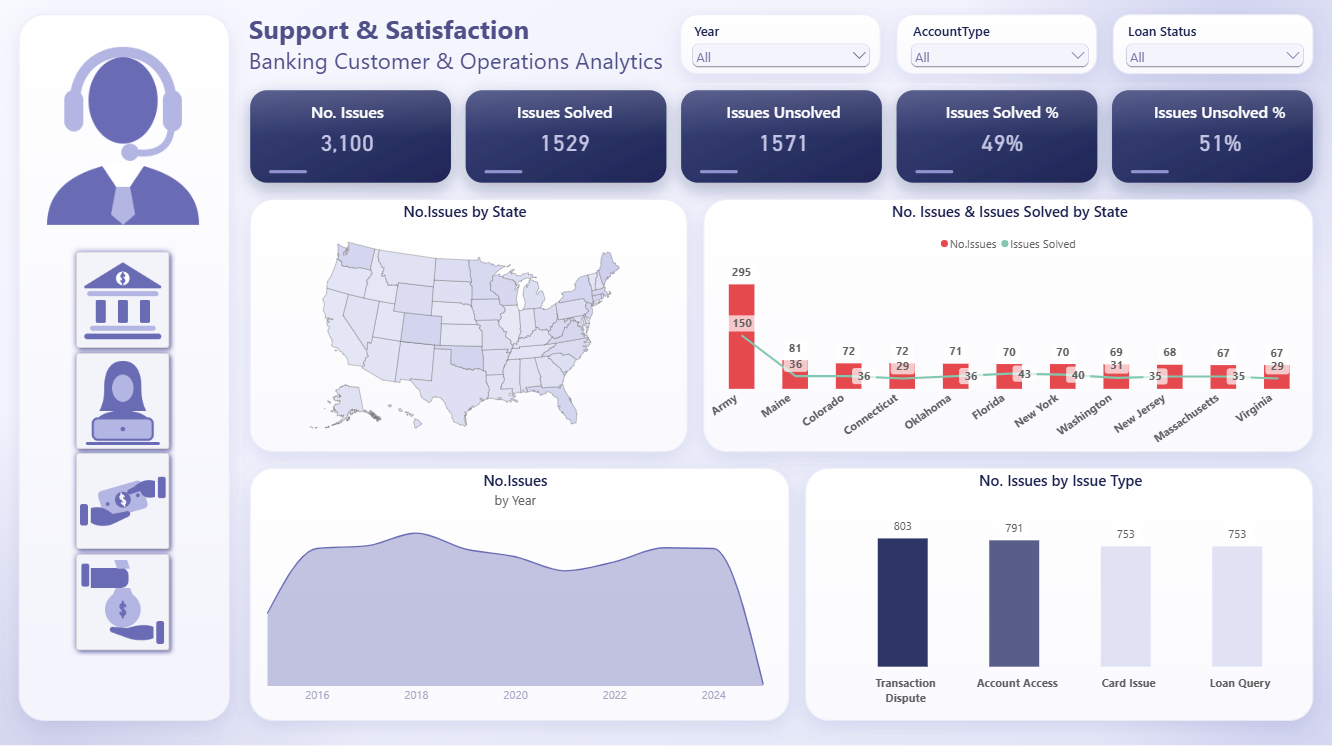

The page's visual inventory and layout, read from the dashboard file:
{"tool":"powerbi","page":{"name":"Support & Satisfaction","canvas":[1920,1080],"ordinal":4},"visuals":[{"type":"image","box":[0,16,368,336],"z":0},{"type":"actionButton","box":[96,496,175,175],"z":1000},{"type":"actionButton","box":[96,352,175,175],"z":2000},{"type":"actionButton","box":[96,640,175,175],"z":3000},{"type":"actionButton","box":[96,784,175,175],"z":4000},{"type":"textbox","box":[352,16,864,112],"z":5000},{"type":"advanceCardE03760C5AB684758B56AA29F9E6C257B","title":"No. Issues ","fields":{"mainMeasure":["Customer Survice.No.Issues"]},"box":[360,144,288,96],"z":6000},{"type":"advanceCardE03760C5AB684758B56AA29F9E6C257B","title":"Issues Solved ","fields":{"mainMeasure":["Customer Survice.Issues Solved"]},"box":[672,144,288,96],"z":7000},{"type":"advanceCardE03760C5AB684758B56AA29F9E6C257B","title":"Issues Unsolved ","fields":{"mainMeasure":["Customer Survice.Issues Unsolved"]},"box":[984,144,288,96],"z":8000},{"type":"advanceCardE03760C5AB684758B56AA29F9E6C257B","title":"Issues Solved %","fields":{"mainMeasure":["Customer Survice.Issues Solved %"]},"box":[1296,144,288,96],"z":9000},{"type":"advanceCardE03760C5AB684758B56AA29F9E6C257B","title":"Issues Unsolved %","fields":{"mainMeasure":["Customer Survice.Issues Unsolved %"]},"box":[1608,144,288,96],"z":10000},{"type":"slicer","fields":{"Values":["Accounts.AccountType"]},"box":[1292,32,288,96],"z":11000},{"type":"slicer","fields":{"Values":["Loans.Loan Status"]},"box":[1600,32,288,96],"z":12000},{"type":"slicer","fields":{"Values":["DimDate.Year"]},"box":[980,32,288,96],"z":13000},{"type":"lineClusteredColumnComboChart","title":"No. Issues by Issue Type","fields":{"Category":["SupportCalls.IssueType"],"Y":["Customer Survice.No.Issues"]},"box":[1152,672,744,360],"z":14000},{"type":"lineClusteredColumnComboChart","title":"No. Issues & Issues Solved by State ","fields":{"Category":["Customers.State"],"Y":["Customer Survice.No.Issues"],"Y2":["Customer Survice.Issues Solved"]},"box":[1008,288,888,384],"z":15000},{"type":"lineChart","fields":{"Category":["DimDate.Year","DimDate.Quarter","DimDate.MonthName","DimDate.Day"],"Y":["Customer Survice.No.Issues"]},"box":[360,672,768,360],"z":16000},{"type":"shapeMap","fields":{"Category":["Customers.State"],"Value":["Customer Survice.No.Issues"]},"box":[360,288,624,360],"z":16001}]}

Visuals, with their boxes in screenshot pixels (x1, y1, x2, y2), scaled from the page's 1920x1080 canvas onto the 1332x746 screenshot:
image: detection(0, 11, 255, 243)
actionButton: detection(67, 343, 188, 463)
actionButton: detection(67, 243, 188, 364)
actionButton: detection(67, 442, 188, 563)
actionButton: detection(67, 542, 188, 662)
textbox: detection(244, 11, 844, 88)
"No. Issues " advanceCardE03760C5AB684758B56AA29F9E6C257B: detection(250, 99, 450, 166)
"Issues Solved " advanceCardE03760C5AB684758B56AA29F9E6C257B: detection(466, 99, 666, 166)
"Issues Unsolved " advanceCardE03760C5AB684758B56AA29F9E6C257B: detection(683, 99, 882, 166)
"Issues Solved %" advanceCardE03760C5AB684758B56AA29F9E6C257B: detection(899, 99, 1099, 166)
"Issues Unsolved %" advanceCardE03760C5AB684758B56AA29F9E6C257B: detection(1116, 99, 1315, 166)
slicer - Accounts.AccountType: detection(896, 22, 1096, 88)
slicer - Loans.Loan Status: detection(1110, 22, 1310, 88)
slicer - DimDate.Year: detection(680, 22, 880, 88)
"No. Issues by Issue Type" lineClusteredColumnComboChart: detection(799, 464, 1315, 713)
"No. Issues & Issues Solved by State " lineClusteredColumnComboChart: detection(699, 199, 1315, 464)
lineChart - DimDate.Year x DimDate.Quarter: detection(250, 464, 783, 713)
shapeMap - Customers.State x Customer Survice.No.Issues: detection(250, 199, 683, 448)
